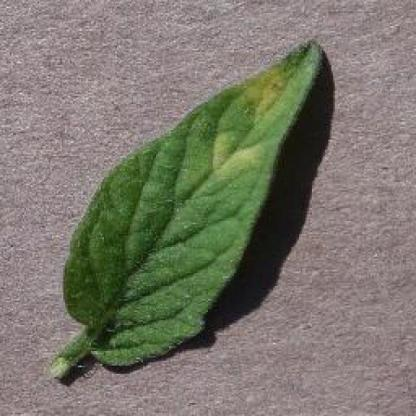Tomato_Leaf_Mold: (74, 42, 321, 333)
